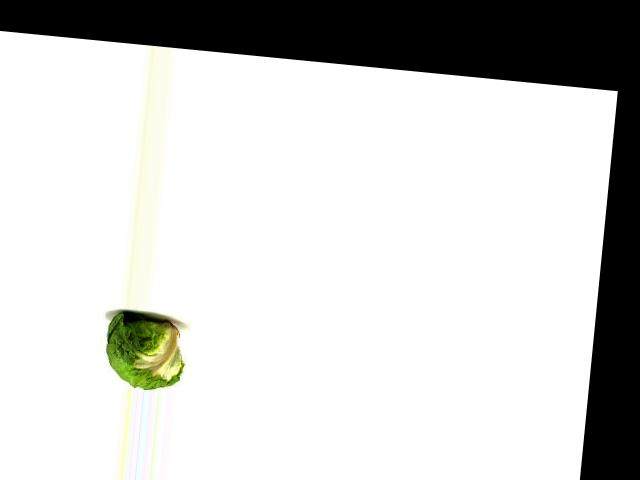lettuce: (100, 305, 190, 392)
